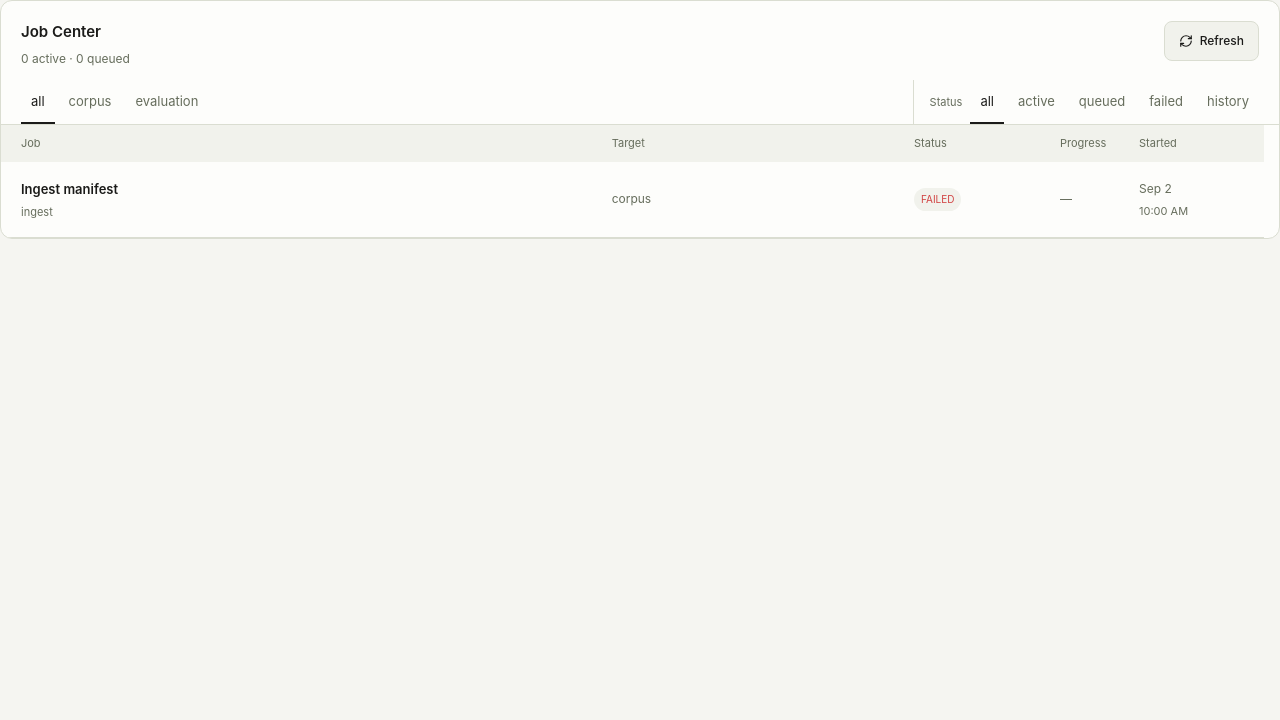
Test: JobCenter › keeps the raw code searchable and adds a sentence beside it
Step 1. Click the button "Ingest manifest ingest corpus failed — Sep 2 10:00 AM" → (632, 200), box [1,162,1264,238]
(page scrolled)
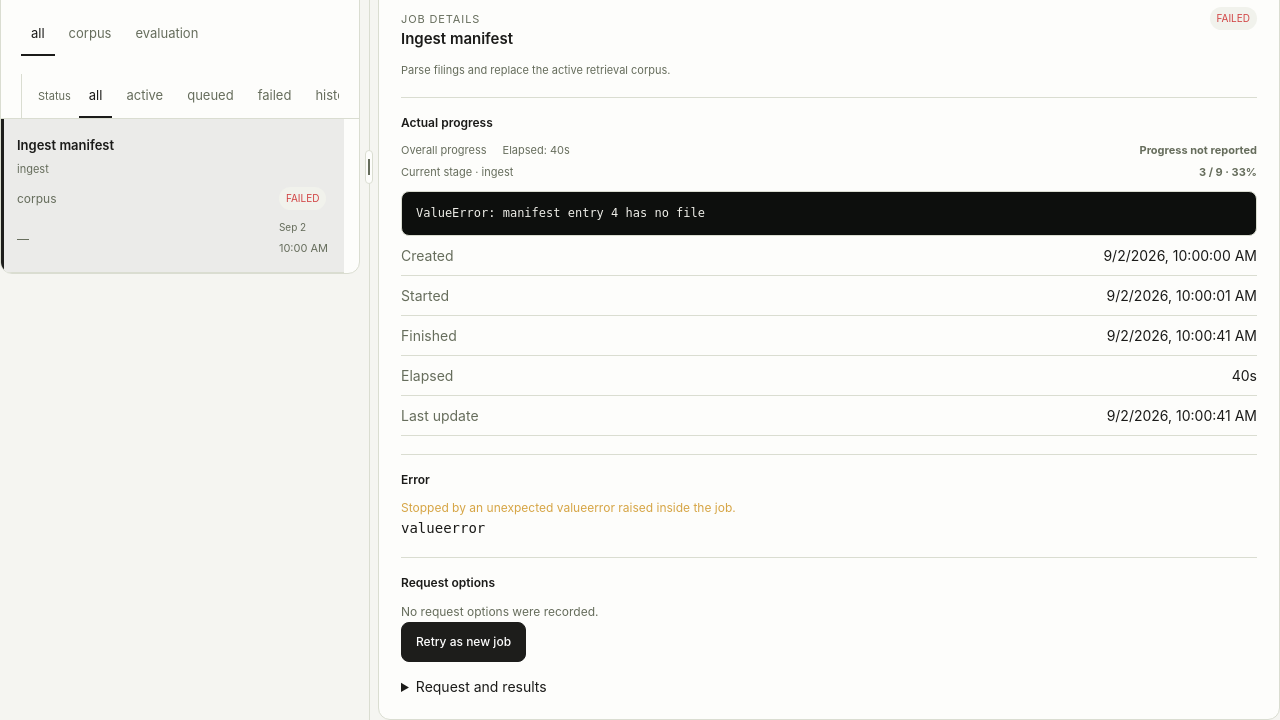
Check: the text "valueerror" is shown, box [401,520,485,536]
Check: the text "Stopped by an unexpected valueerror raised inside the job." is shown, box [401,500,736,515]
Check: the text "ValueError: manifest entry 4 has no file" is shown, box [401,190,1257,236]
